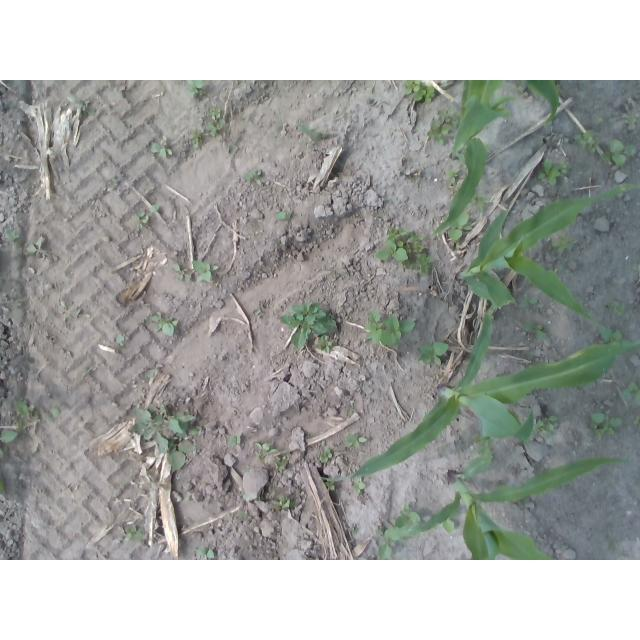Maize: (318, 303, 640, 481), (454, 182, 640, 343), (402, 448, 627, 560), (432, 80, 561, 240)
Weeds: (127, 403, 195, 456), (279, 300, 338, 354), (375, 228, 434, 275), (0, 398, 60, 442), (362, 309, 415, 348), (425, 109, 460, 144), (600, 139, 637, 169), (166, 440, 197, 472), (378, 529, 407, 560), (589, 413, 622, 440), (537, 159, 570, 186), (447, 211, 473, 245), (418, 340, 449, 366), (148, 311, 178, 337), (296, 123, 328, 147), (404, 81, 437, 104), (204, 107, 227, 140), (572, 129, 601, 155), (392, 504, 421, 528), (192, 259, 218, 283), (134, 204, 160, 228), (600, 326, 631, 346), (520, 320, 548, 341), (68, 96, 97, 116), (532, 414, 558, 436), (468, 191, 491, 214), (440, 510, 461, 535), (474, 433, 495, 457), (255, 441, 278, 462), (620, 380, 640, 404), (549, 233, 575, 251), (270, 495, 294, 514), (151, 139, 174, 158), (172, 262, 193, 282), (341, 433, 367, 449), (186, 80, 207, 98), (446, 168, 461, 192), (507, 80, 529, 96), (27, 236, 45, 255), (125, 526, 147, 541), (189, 128, 203, 150), (272, 453, 289, 471), (243, 168, 261, 185), (4, 229, 24, 244), (195, 545, 216, 559), (225, 136, 241, 154), (318, 445, 333, 464), (351, 476, 365, 496), (610, 300, 627, 316), (520, 297, 540, 307), (228, 434, 242, 446), (276, 212, 293, 221), (546, 266, 563, 275), (0, 473, 6, 496), (191, 424, 202, 436), (236, 511, 248, 522), (625, 115, 638, 125), (116, 334, 126, 346), (325, 480, 335, 492), (632, 414, 640, 426), (351, 526, 359, 534), (440, 445, 447, 454), (61, 300, 68, 308), (0, 445, 4, 458), (597, 117, 604, 123), (631, 265, 638, 271)
